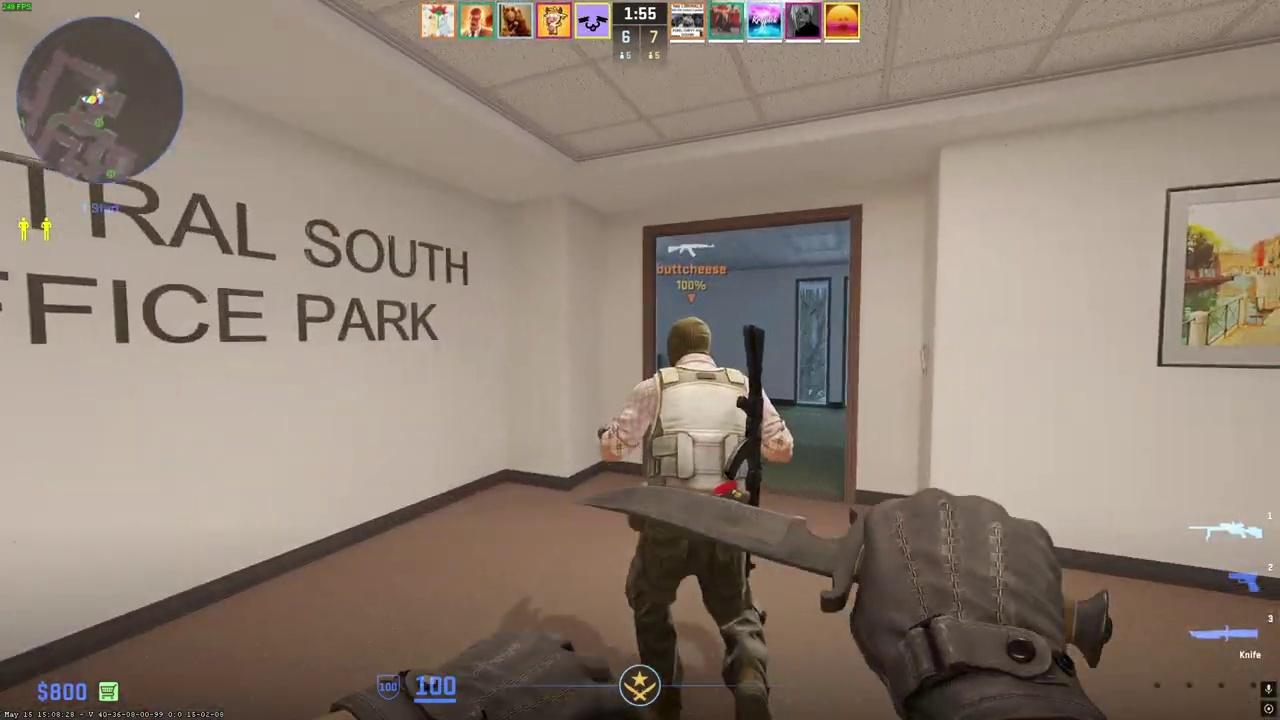Terrorist: (600, 317, 778, 720)
